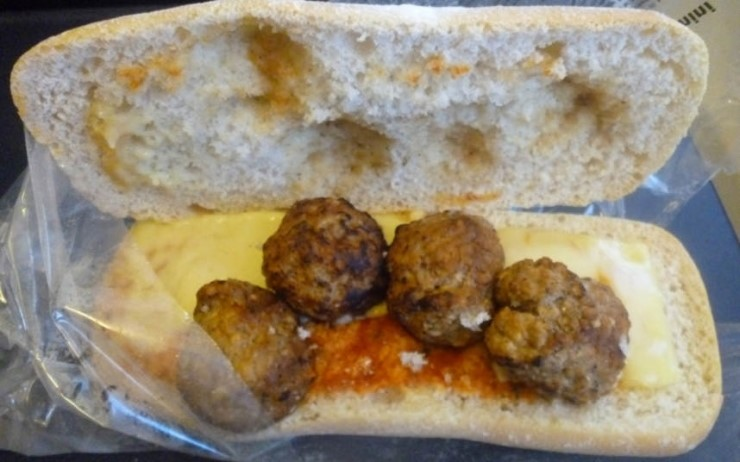meatballs: (502, 263, 621, 406), (189, 284, 307, 412), (265, 197, 387, 315), (389, 211, 498, 341)
slice of bread: (29, 15, 704, 205), (311, 383, 709, 451), (596, 222, 712, 452)
